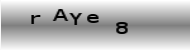8: (115, 21, 129, 35)
A: (51, 8, 68, 22)
Y: (68, 12, 83, 26)
e: (86, 13, 100, 24)
r: (30, 14, 41, 25)
